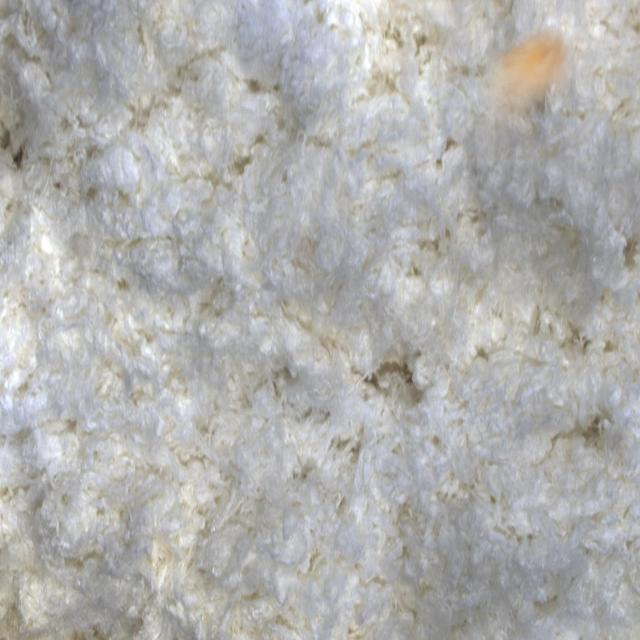dust: (476, 23, 591, 163)
